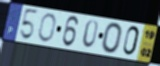0: (122, 25, 140, 58), (80, 19, 99, 50)
5: (18, 8, 40, 42)
6: (61, 15, 79, 48)
O: (100, 21, 124, 55), (37, 12, 57, 44)
